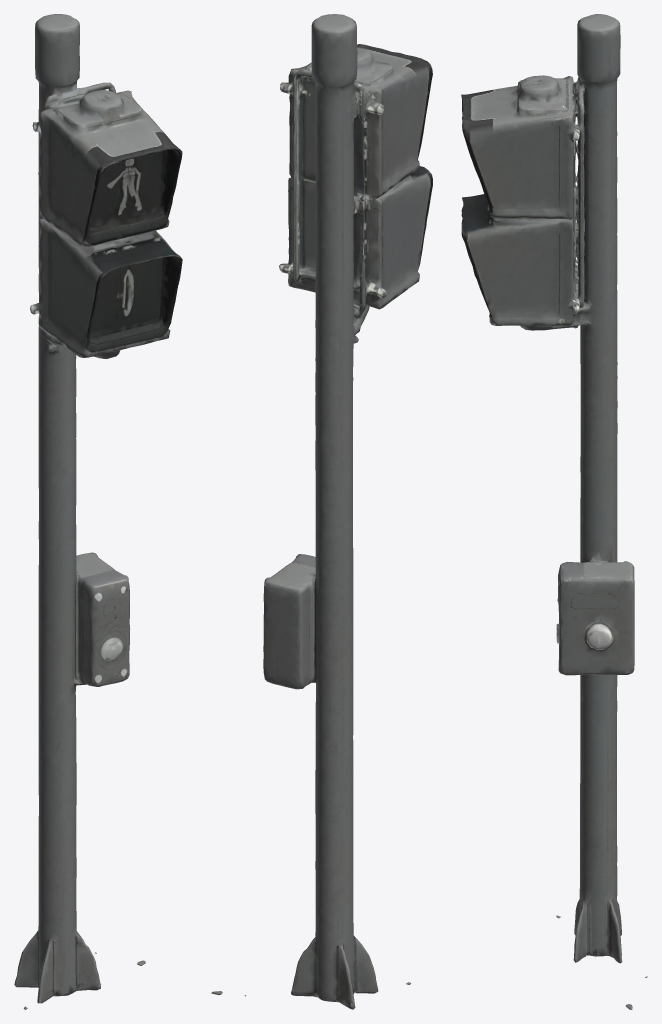
Rendered from PedestrianLight.glb.
The picture shows the model from 3 angles, left to right: view 1: azimuth 30°, elevation 25°; view 2: azimuth 150°, elevation 25°; view 3: azimuth 270°, elevation 25°; orthographic projection. The views are drawn at different scales.
Parts seen in each view (by area): view 1: texture_mapping; view 2: texture_mapping; view 3: texture_mapping.
Part boxes in pixels (box(x1,y1,x2,y2)): texture_mapping: box(14, 14, 182, 1009); texture_mapping: box(211, 14, 432, 1009); texture_mapping: box(461, 14, 647, 1009).
Bounding box in the file's own units: 0.172 × 1.01 × 0.1816.
Materials: 1 (1 with a texture image).
